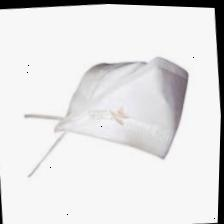mask: (14, 39, 206, 193)
